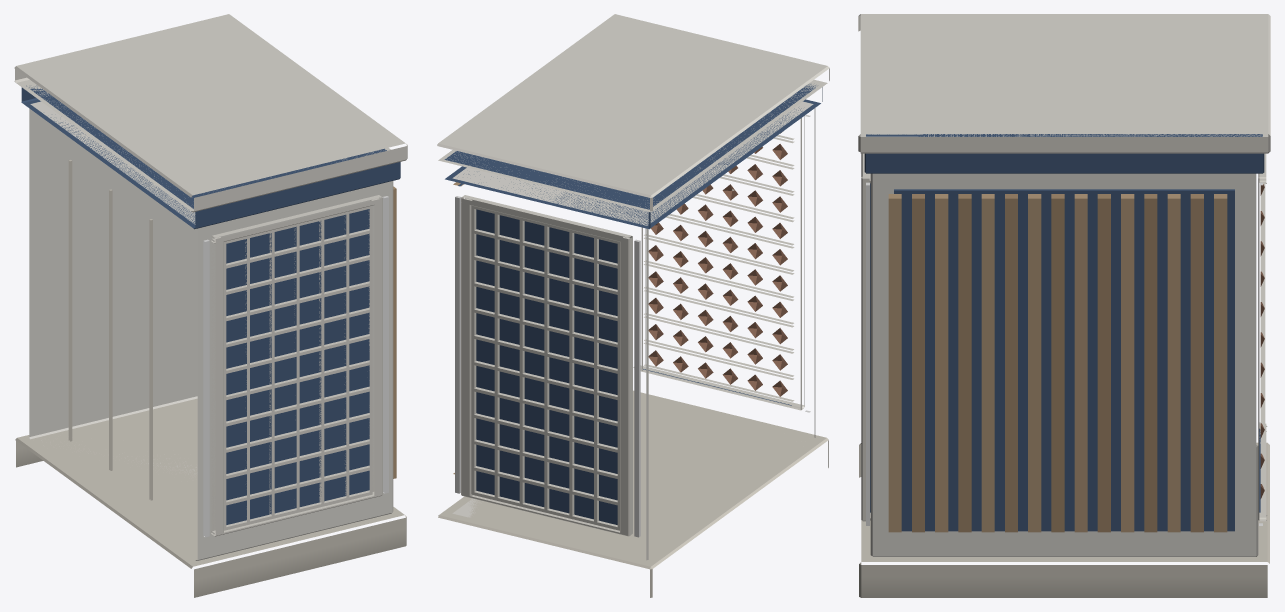
File: gate_pier.glb
3 renders of one model, left to right at view 1: azimuth 30°, elevation 25°; view 2: azimuth 150°, elevation 25°; view 3: azimuth 270°, elevation 25°, orthographic. The views are drawn at different scales.
Visible parts, largest first — view 1: gate_pier; view 2: gate_pier; view 3: gate_pier.
Boxes of the visible parts, x1,y1,x2,y2 form: gate_pier: (14, 14, 407, 597); gate_pier: (437, 14, 829, 597); gate_pier: (858, 14, 1270, 597).
Size of the model in its own units: 3.74 by 6.6 by 5.32.
